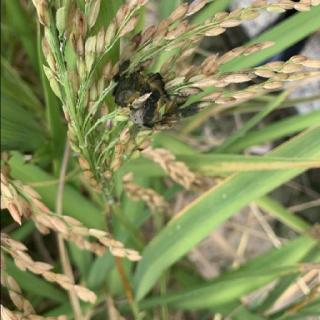Gosong-Palsu: (112, 64, 170, 126)
